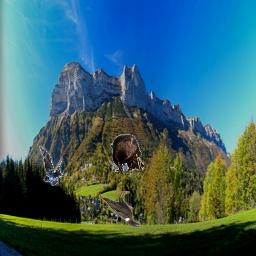Crow: (101, 191, 141, 228), (109, 134, 144, 174)
Swallow: (39, 146, 67, 186)
